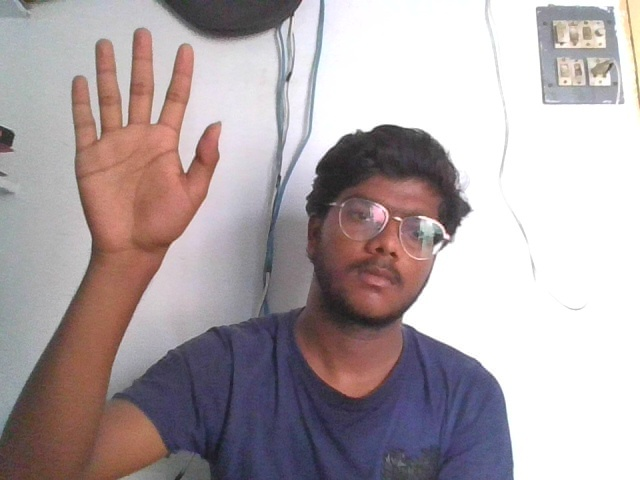Hello: (68, 26, 222, 245)
